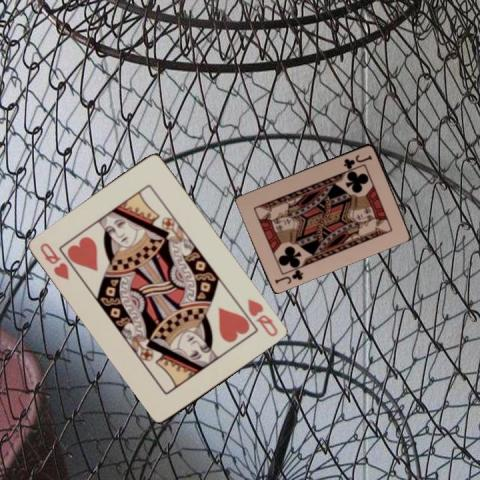Jc: (272, 266, 305, 285), (341, 152, 373, 169)
Qh: (245, 296, 280, 339), (37, 240, 71, 282)
